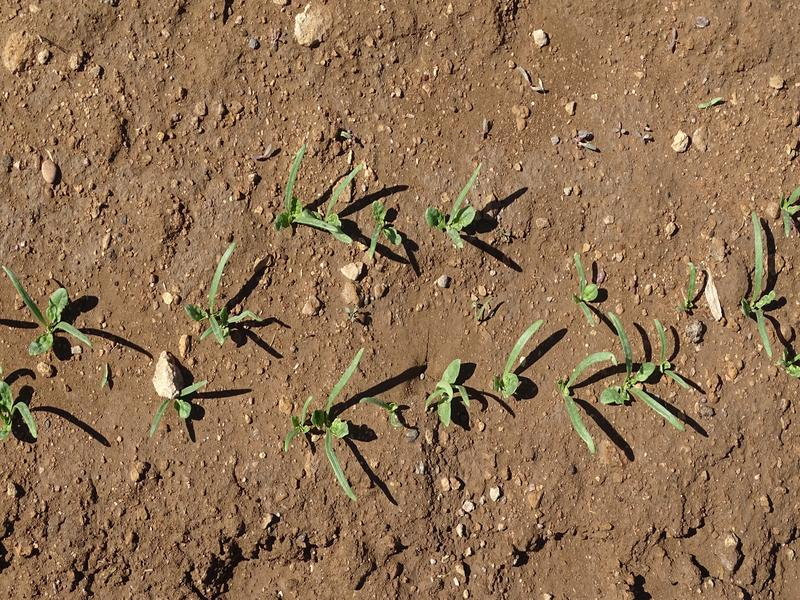Espinaca: (288, 139, 498, 268), (559, 270, 692, 454), (286, 354, 379, 498), (5, 261, 93, 363), (198, 239, 274, 342), (749, 212, 785, 356), (495, 314, 543, 405), (145, 369, 210, 435), (422, 359, 475, 418), (1, 376, 35, 438)
